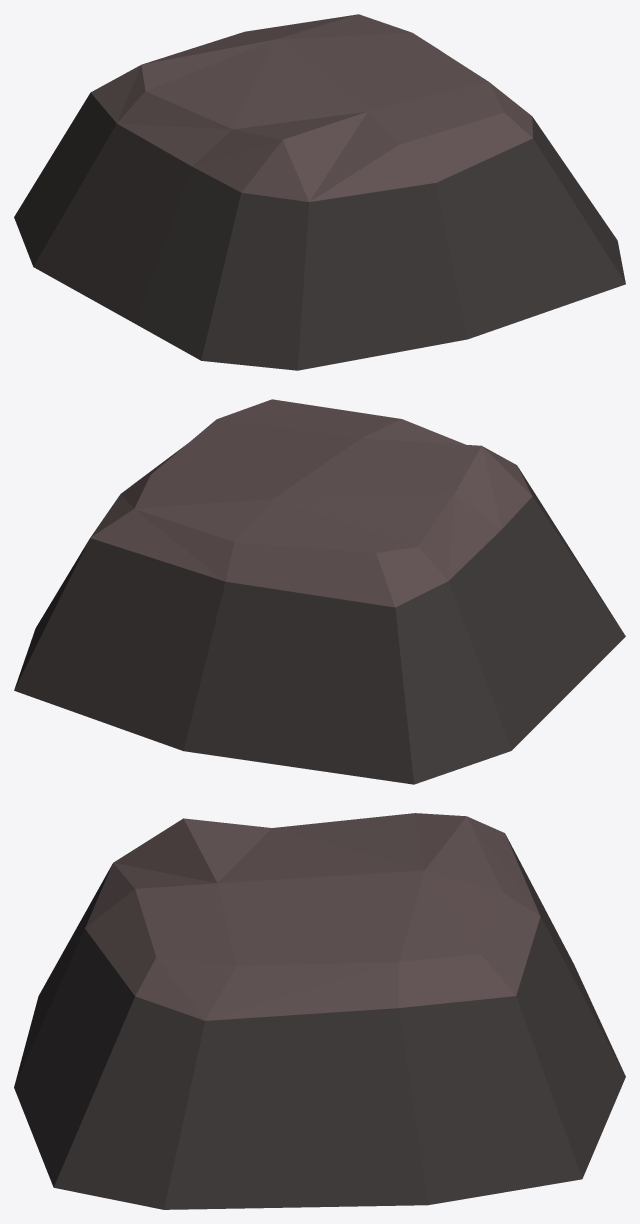
The model's file is TB_D_Env_MtA_C.FBX.
The picture shows the model from 3 angles, top to bottom: view 1: azimuth 30°, elevation 25°; view 2: azimuth 150°, elevation 25°; view 3: azimuth 270°, elevation 25°; orthographic projection. The views are drawn at different scales.
Visible parts, largest first — view 1: TB_D_Env_MtA_C; view 2: TB_D_Env_MtA_C; view 3: TB_D_Env_MtA_C.
Part boxes in pixels (left/top/right/bottom): TB_D_Env_MtA_C: left=14, top=14, right=625, bottom=370; TB_D_Env_MtA_C: left=14, top=399, right=625, bottom=784; TB_D_Env_MtA_C: left=14, top=813, right=625, bottom=1209.
Bounding box in the file's own units: 13.58 × 4.91 × 13.18.
